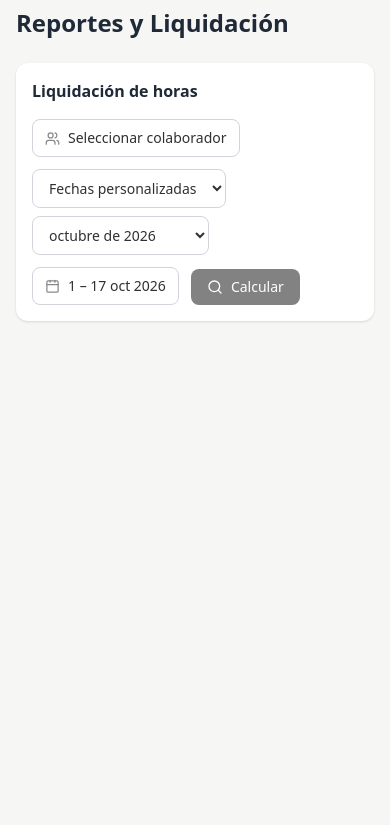
Scenario: el período de pago en el reporte por persona › con un período que no ha terminado, no hay total y se dice cuándo termina
Click the button "Seleccionar colaborador".
click(136, 138)  # box [32, 119, 240, 157]
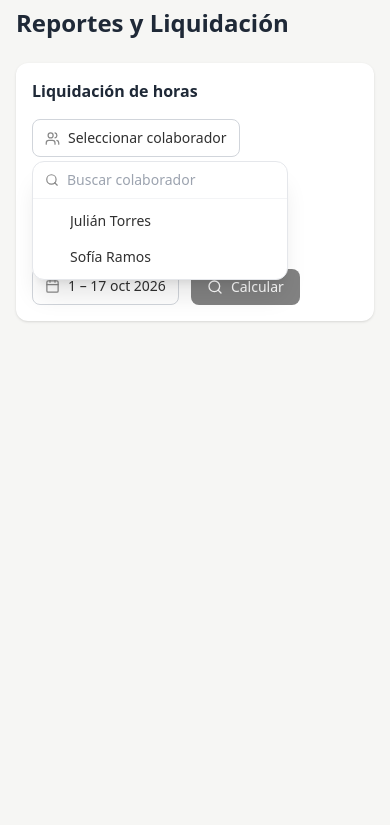
Click the button "Julián Torres".
click(160, 221)  # box [33, 203, 287, 239]
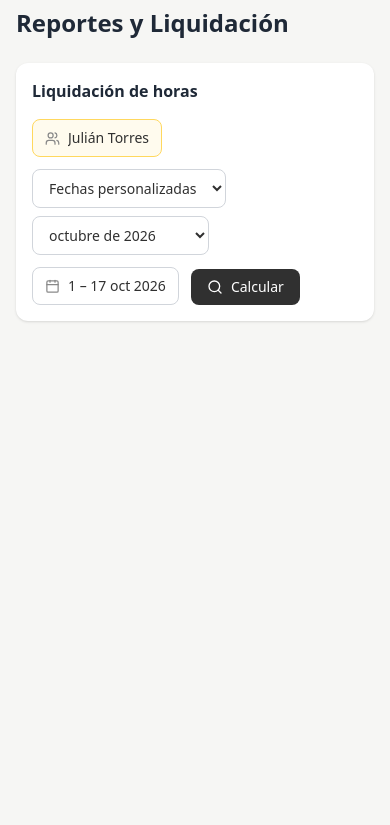
Click the button "Calcular".
click(245, 287)  # box [191, 269, 300, 305]
(page scrolled)
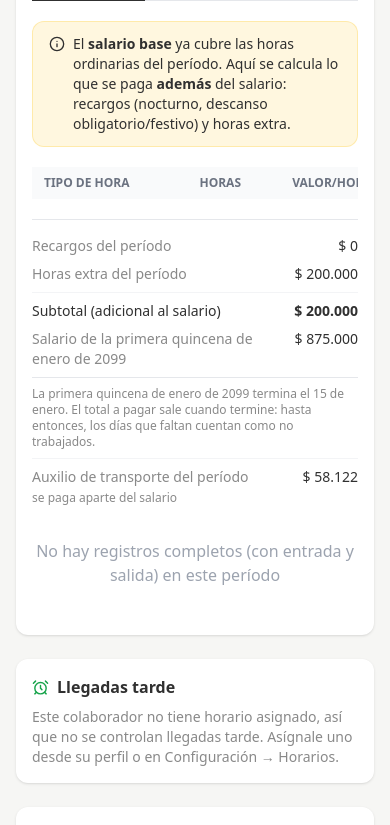
expect the text "termina el 15 de enero" is shown: met, box [32, 385, 344, 450]
